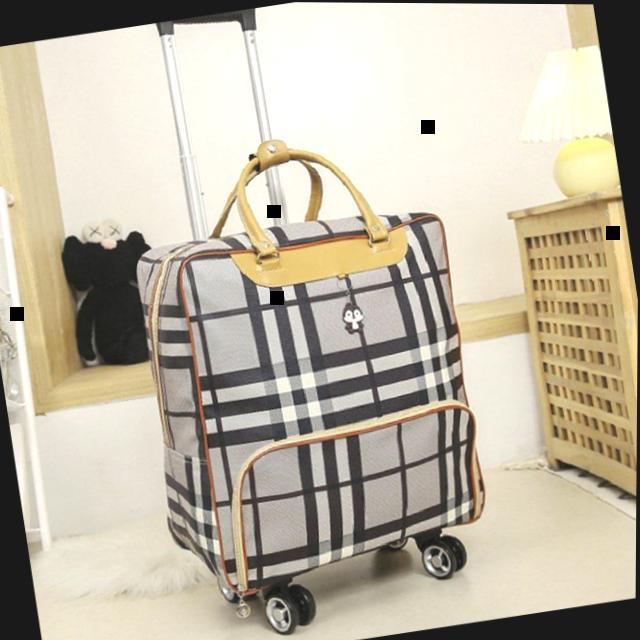luggage: (123, 190, 505, 617)
